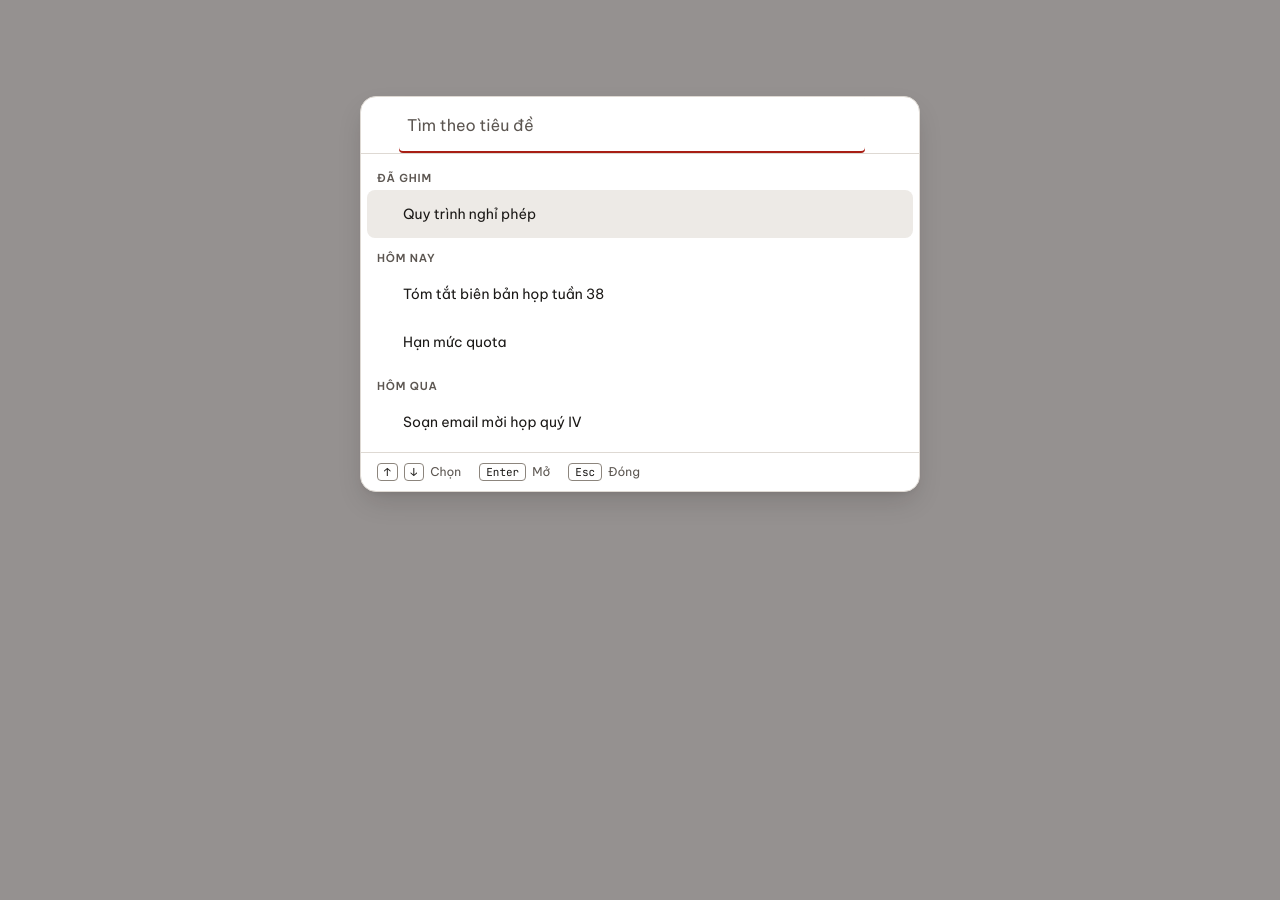
Test case: hop tim hoi thoai › 11. khong dau: 'hop' khop 'họp', to dam dung chu goc; giu nhom ngay
Type "hop" into the dropdown named "Tìm hội thoại" at (632,125), box [399,97,865,153]
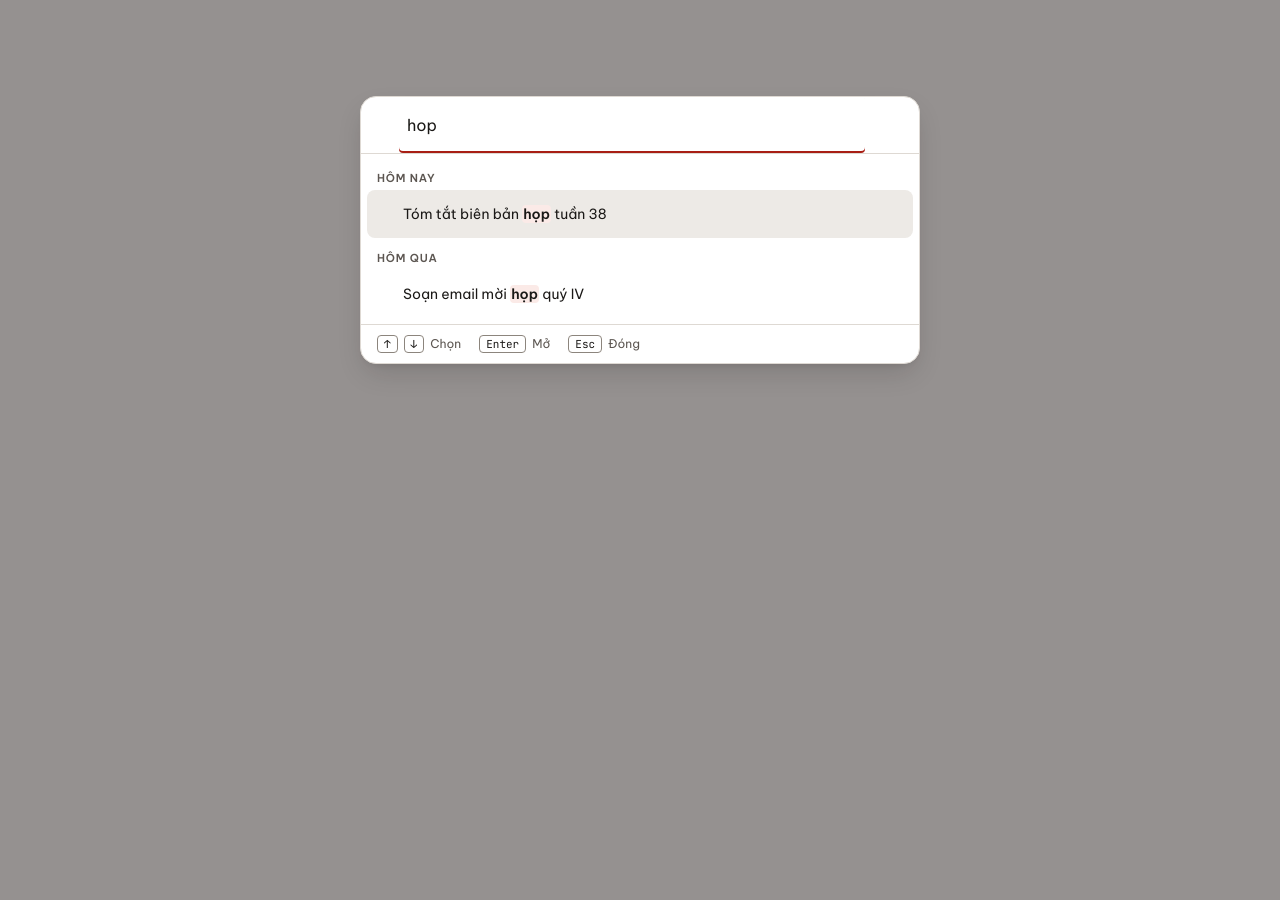
Expected: the text "họp" next to "Tóm tắt biên bản" is shown, [523,205,550,223]
Result: the options read "Tóm tắt biên bản họp tuần 38", "Soạn email mời họp quý IV", in this order at [367,190,913,238]; [403,285,584,303]
